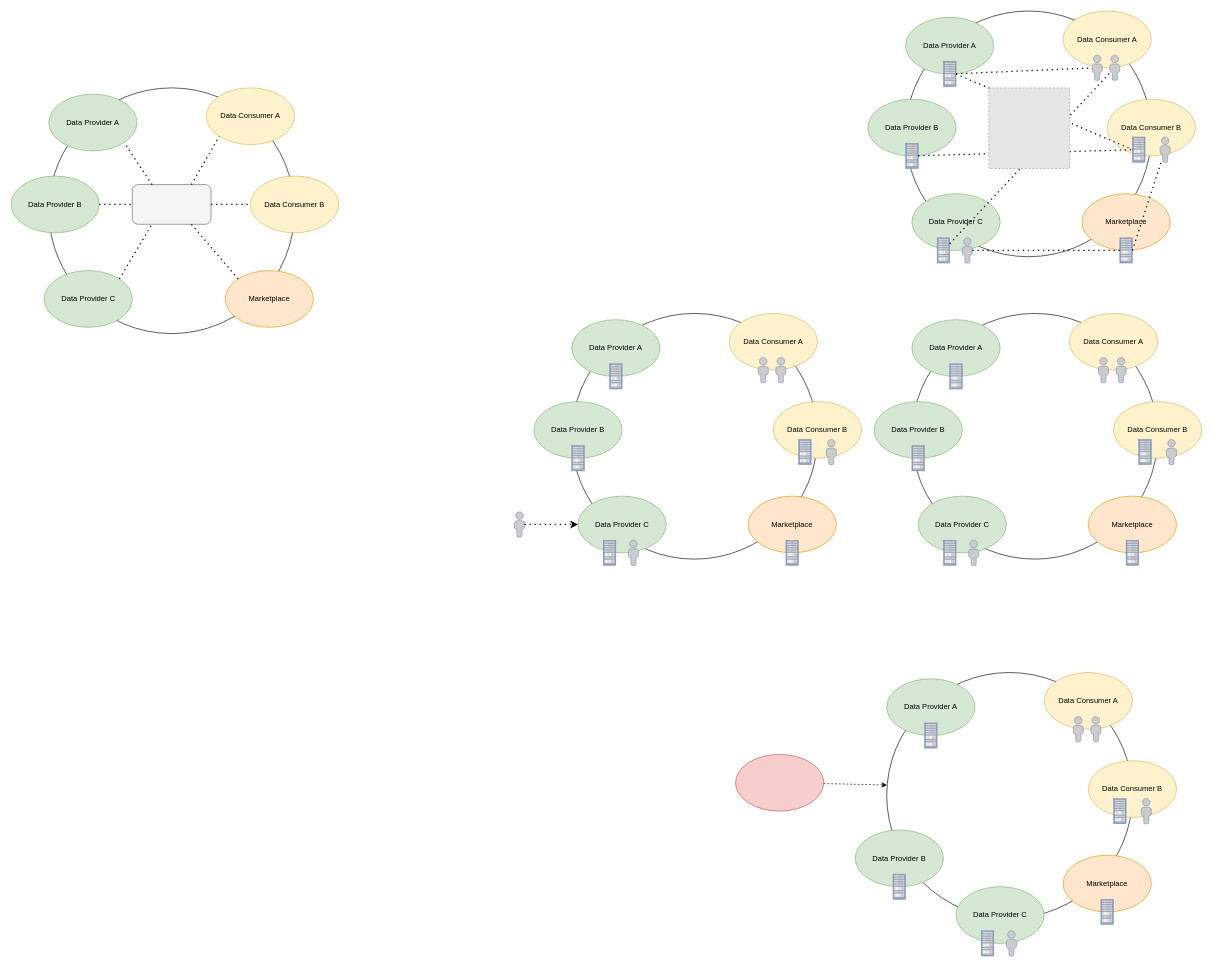
The diagram is 1213 pixels wide and 968 high, and some of its shapes have lost their labels. Grey dashed boxes stand in for pictures. The shapes that lost their labels are listed below. From the top down, each one's box as (x1, y1, x2, y2) in pixels, then its label:
(132, 184, 211, 224): Verifiable Data Registry
(735, 754, 824, 811): New Participant
